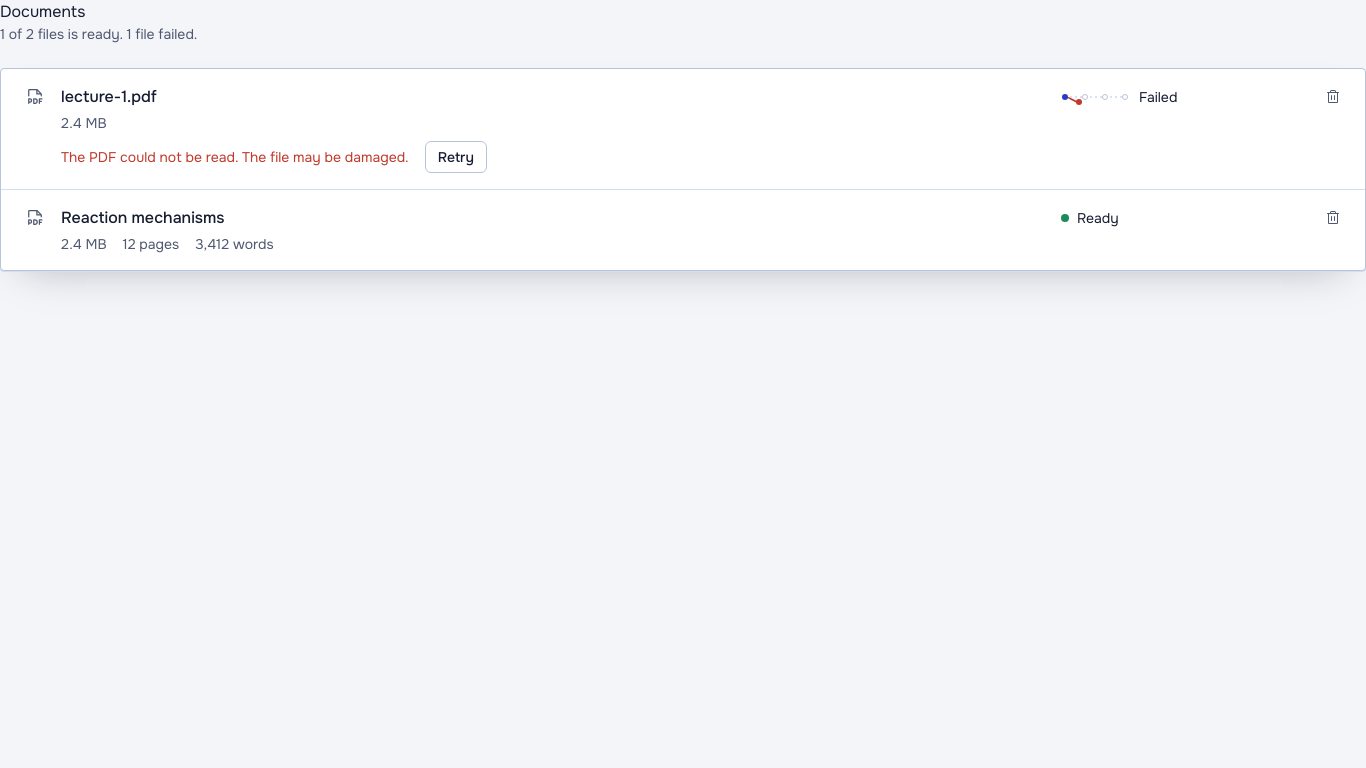
Test: DocumentList retry and delete › deletes a document after asking, then moves focus to the list heading
Step 1. Click the button named "Delete lecture-2.pdf" → (1333,218), box x1=1313 y1=198 x2=1353 y2=238
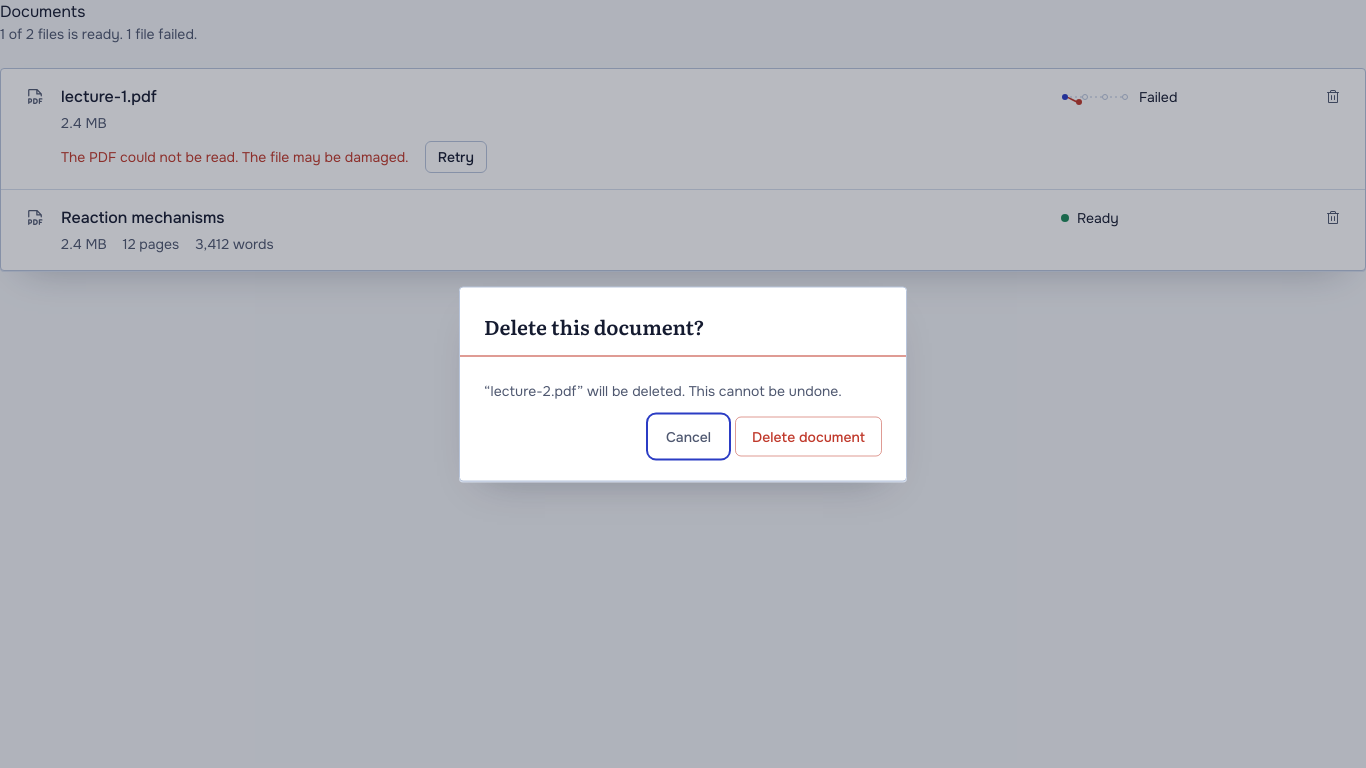
Step 2. Click the button "Delete document" → (809,436), box x1=735 y1=416 x2=882 y2=456
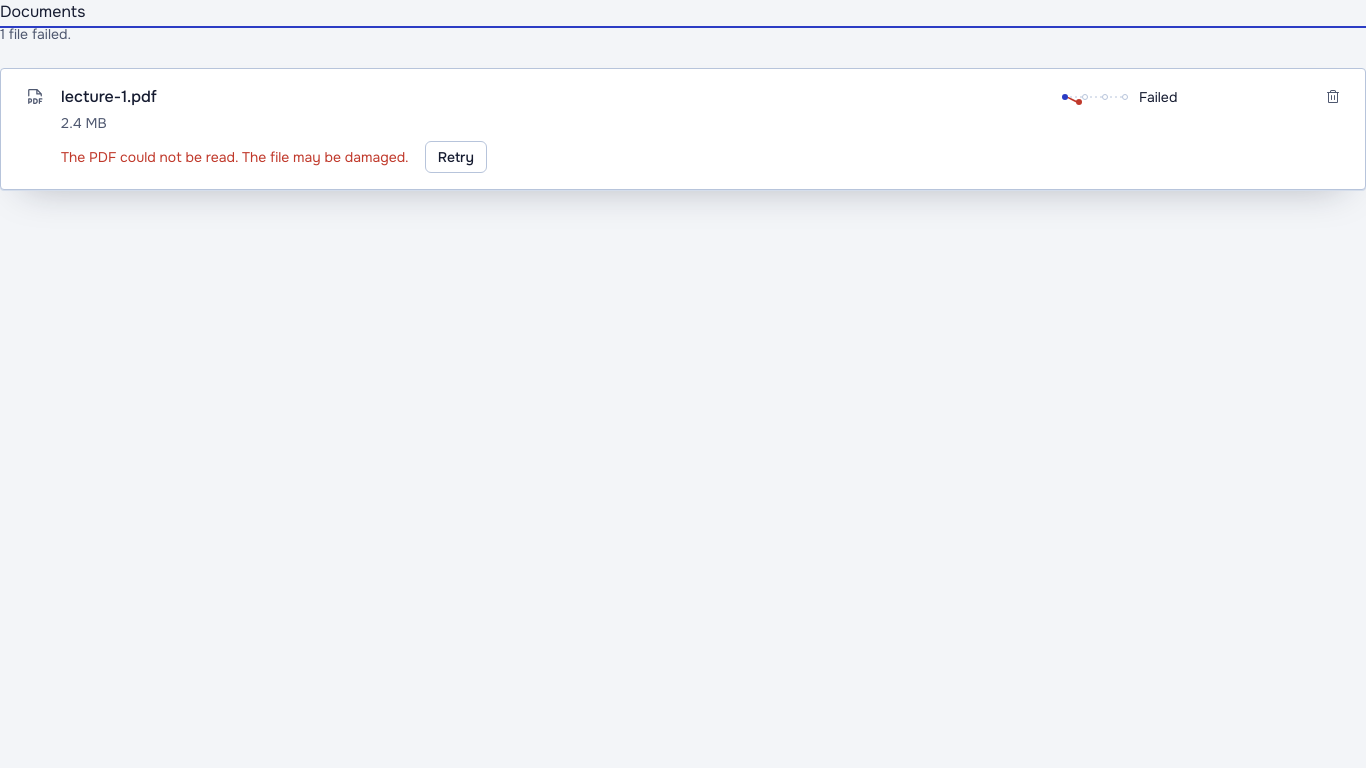
Now the link "Reaction mechanisms" is gone
Now the message reads "1 file failed.", box x1=0 y1=25 x2=71 y2=43
